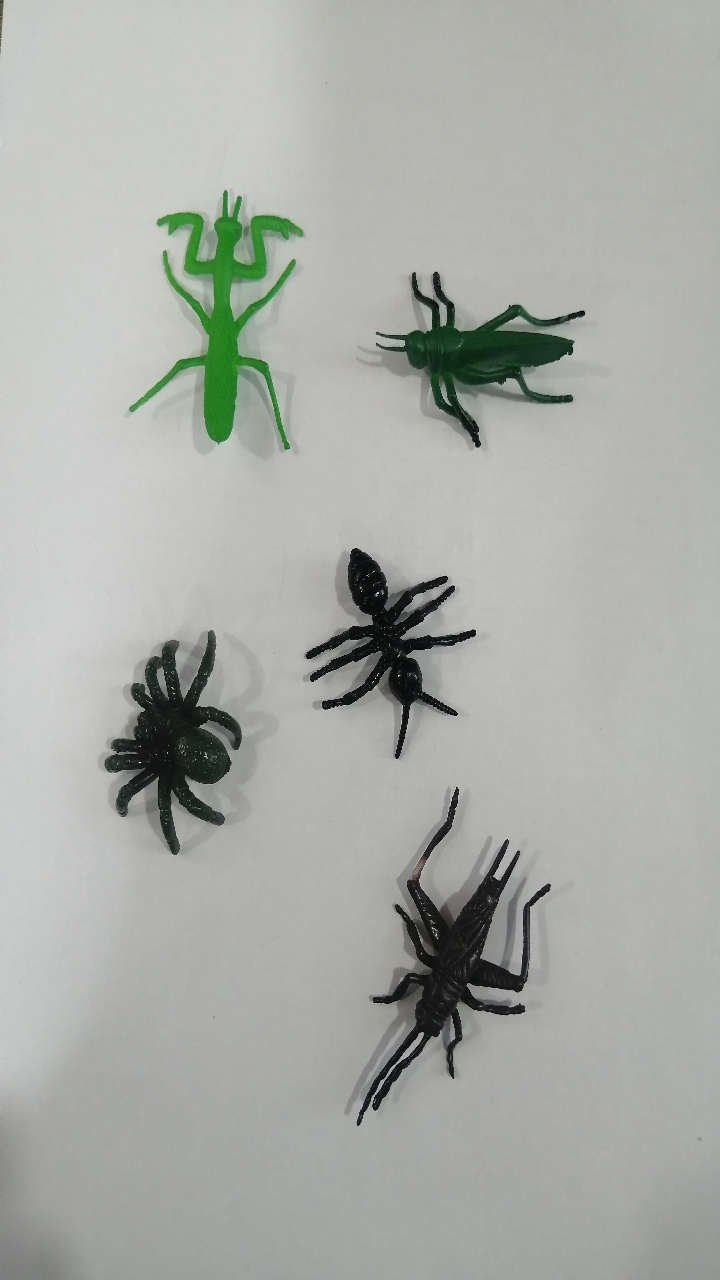intruso: (321, 777, 581, 1143), (112, 166, 329, 486), (278, 503, 501, 782), (348, 237, 623, 457), (71, 594, 274, 885)
